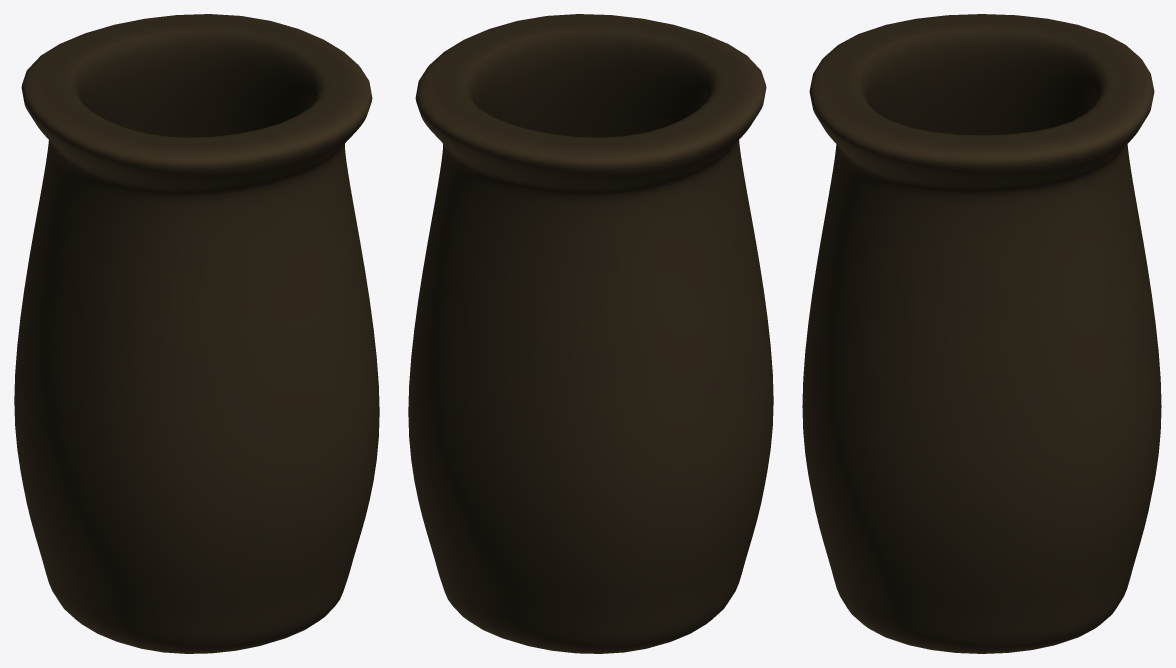
File: vase.fbx
3 renders of one model, left to right at view 1: azimuth 30°, elevation 25°; view 2: azimuth 150°, elevation 25°; view 3: azimuth 270°, elevation 25°, orthographic.
Parts seen in each view (by area): view 1: Cube.095; view 2: Cube.095; view 3: Cube.095.
Boxes of the visible parts, x1,y1,x2,y2 form: Cube.095: (14,14,379,653); Cube.095: (408,14,773,653); Cube.095: (802,14,1161,653).
Size of the model in its own units: 66.88 by 108 by 66.88.
